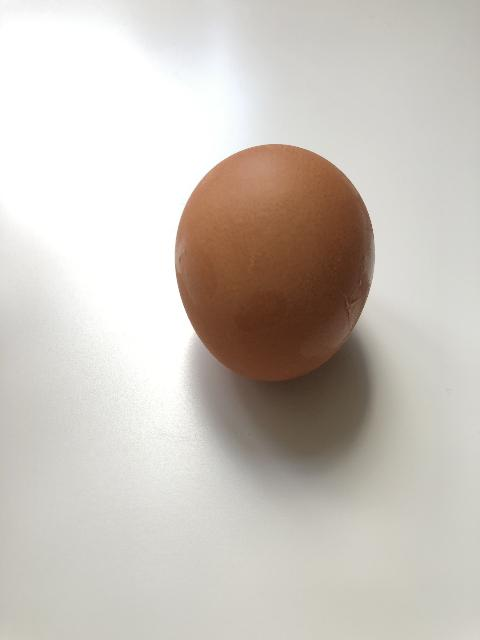Sano: (173, 142, 376, 383)
